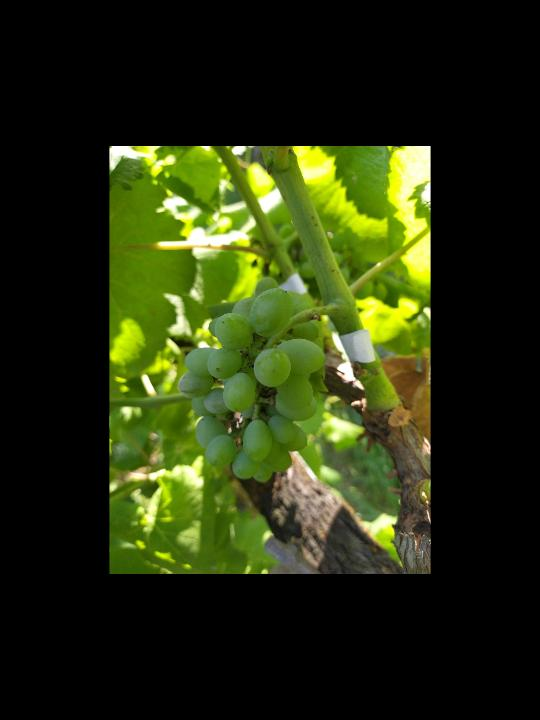grape: (172, 272, 329, 485)
